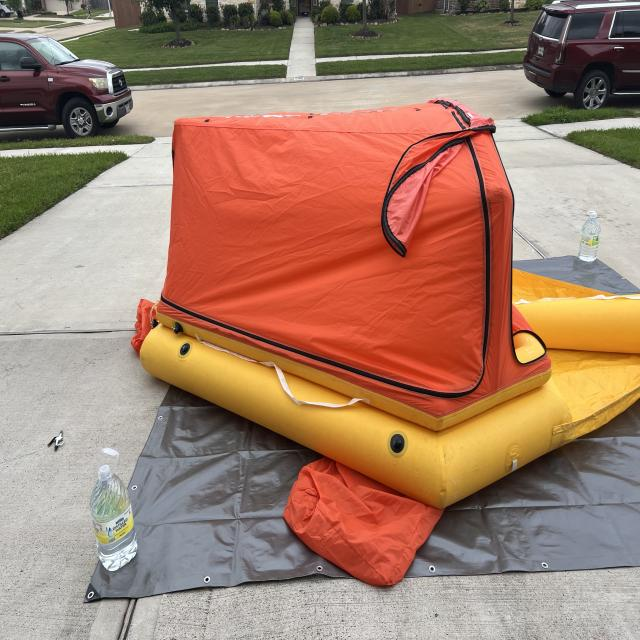Multi-person_life_raft: (130, 98, 640, 586)
